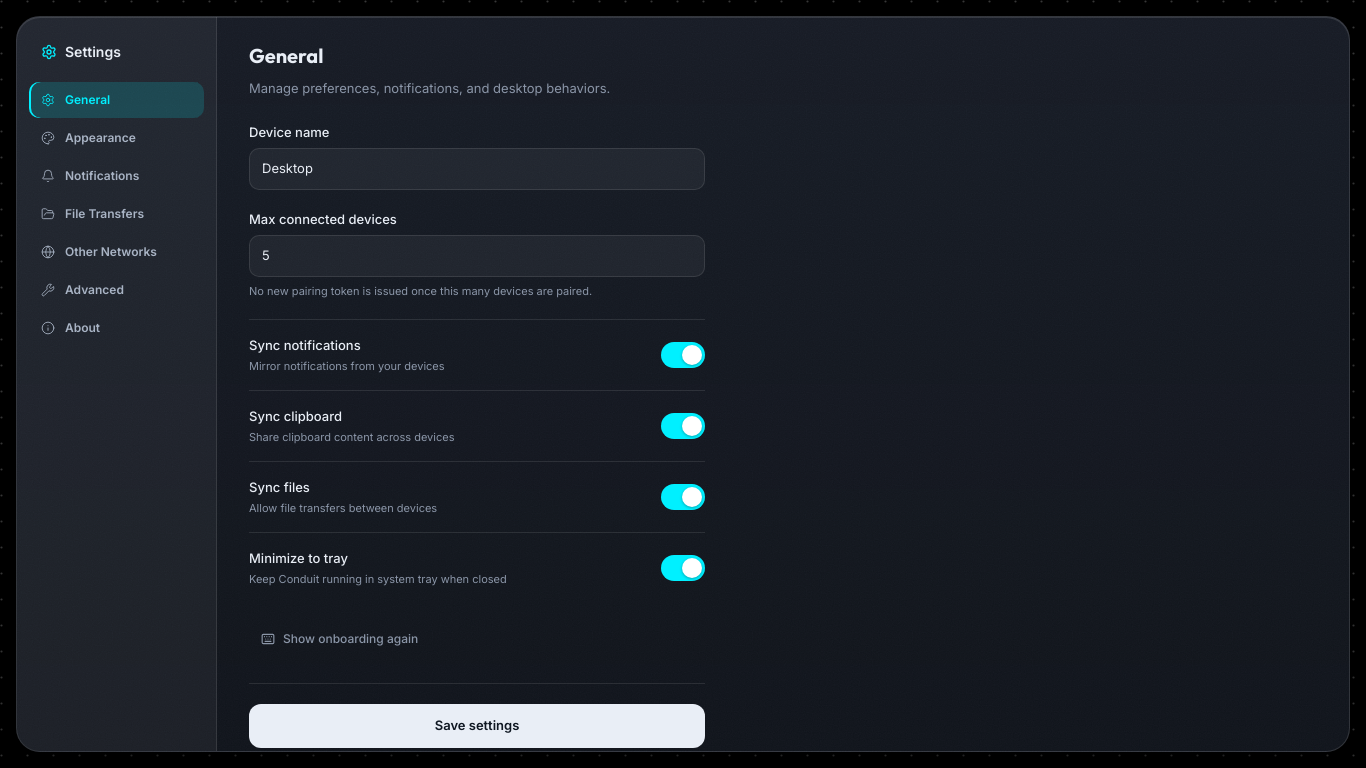
Test case: Settings › edits the notification_apps allowlist
Check: the text "Settings" is shown, box [65,41,121,62]
Click the button "Notifications" at x=116, y=176, box [29,158,204,194]
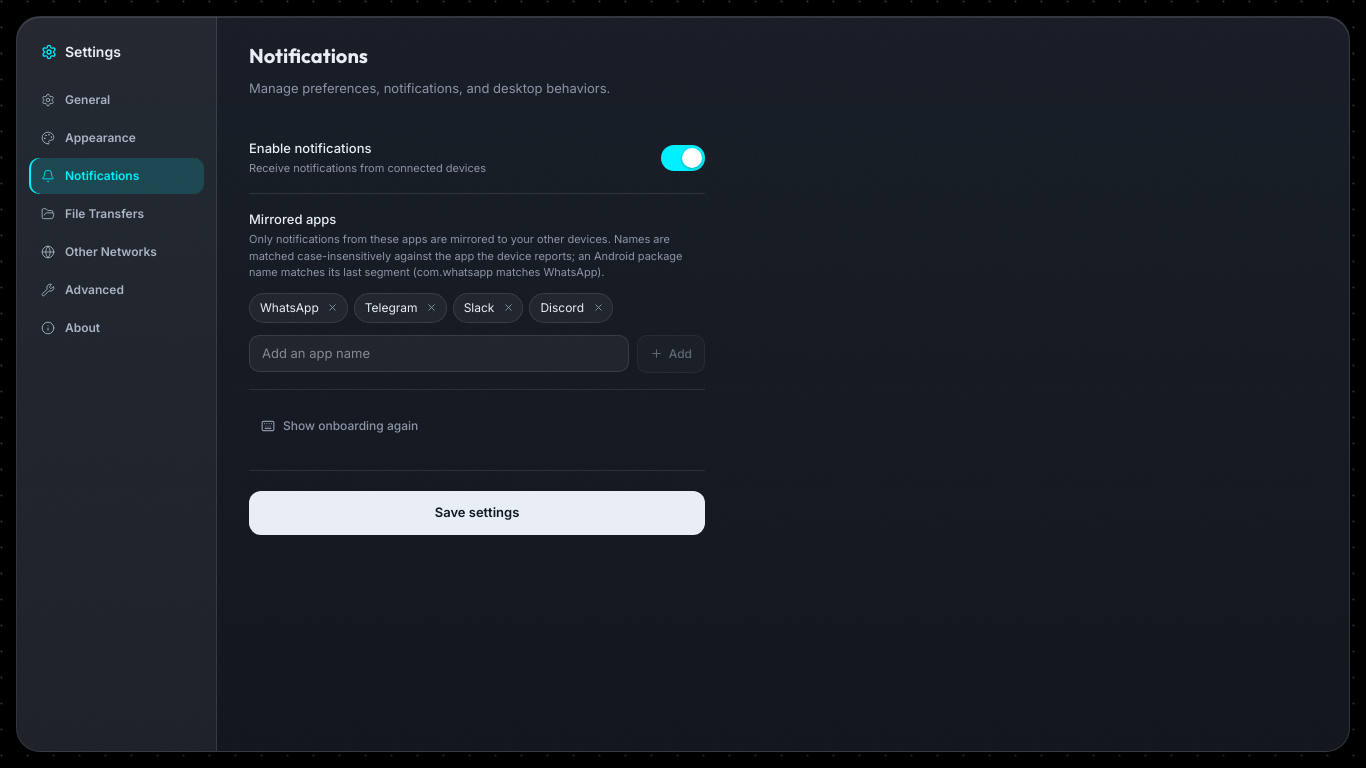
Check: the text "Slack" is shown, box [453,292,523,322]
Check: the text "WhatsApp" is shown, box [249,292,348,322]
Type "Matrix" into the field with placeholder "Add an app name" at x=439, y=354, box [249,335,629,372]
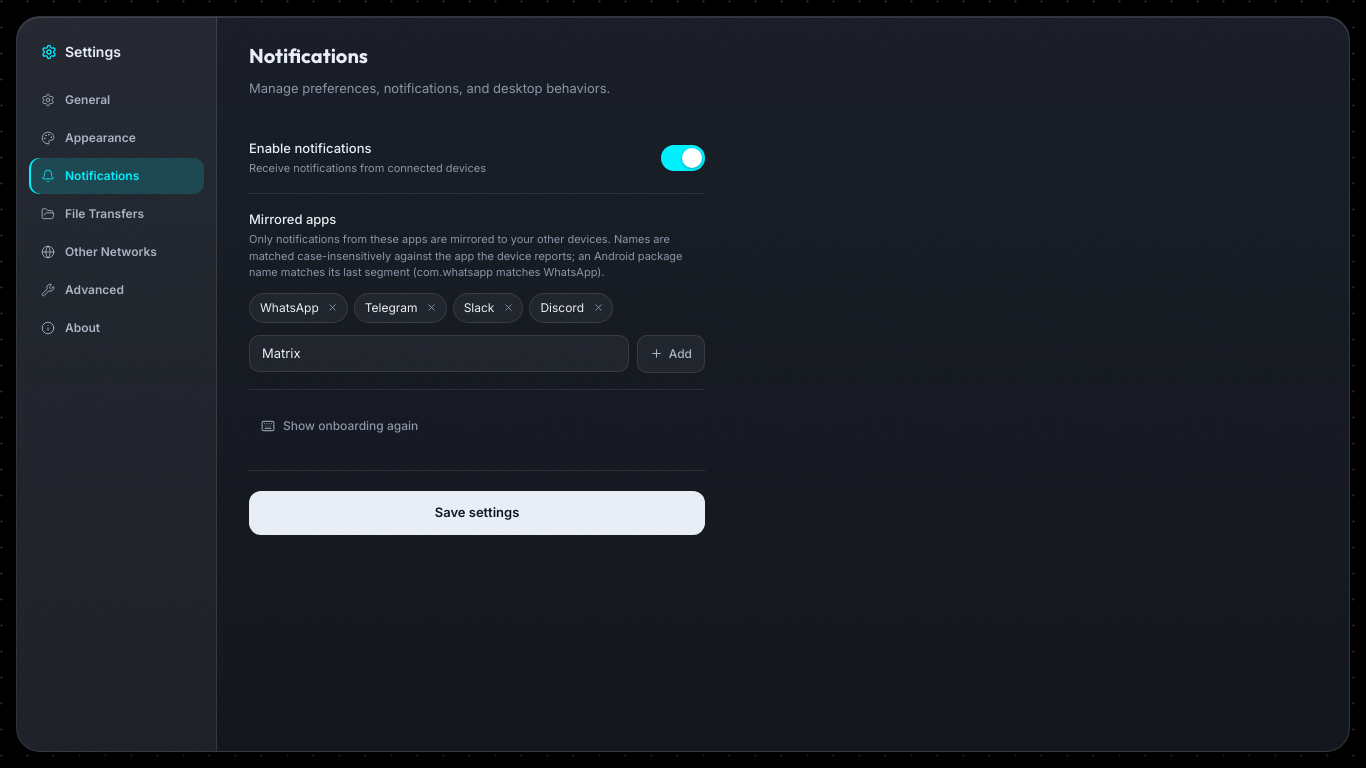
Click the button with aria-label "Add app" at x=671, y=354, box [637,334,705,372]
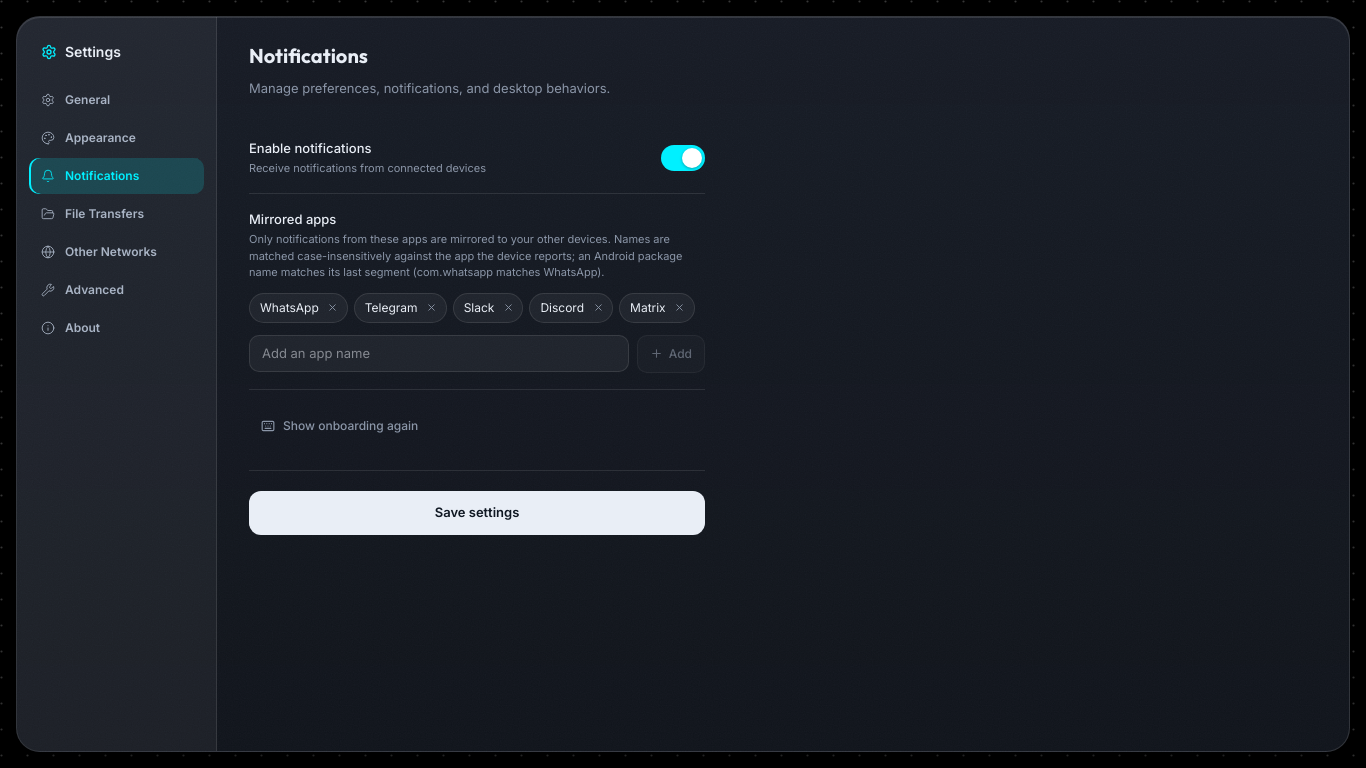
Check: the text "Matrix" is shown, box [619,292,695,322]
Click the button named "Remove Matrix" at x=680, y=308, box [670,298,690,318]
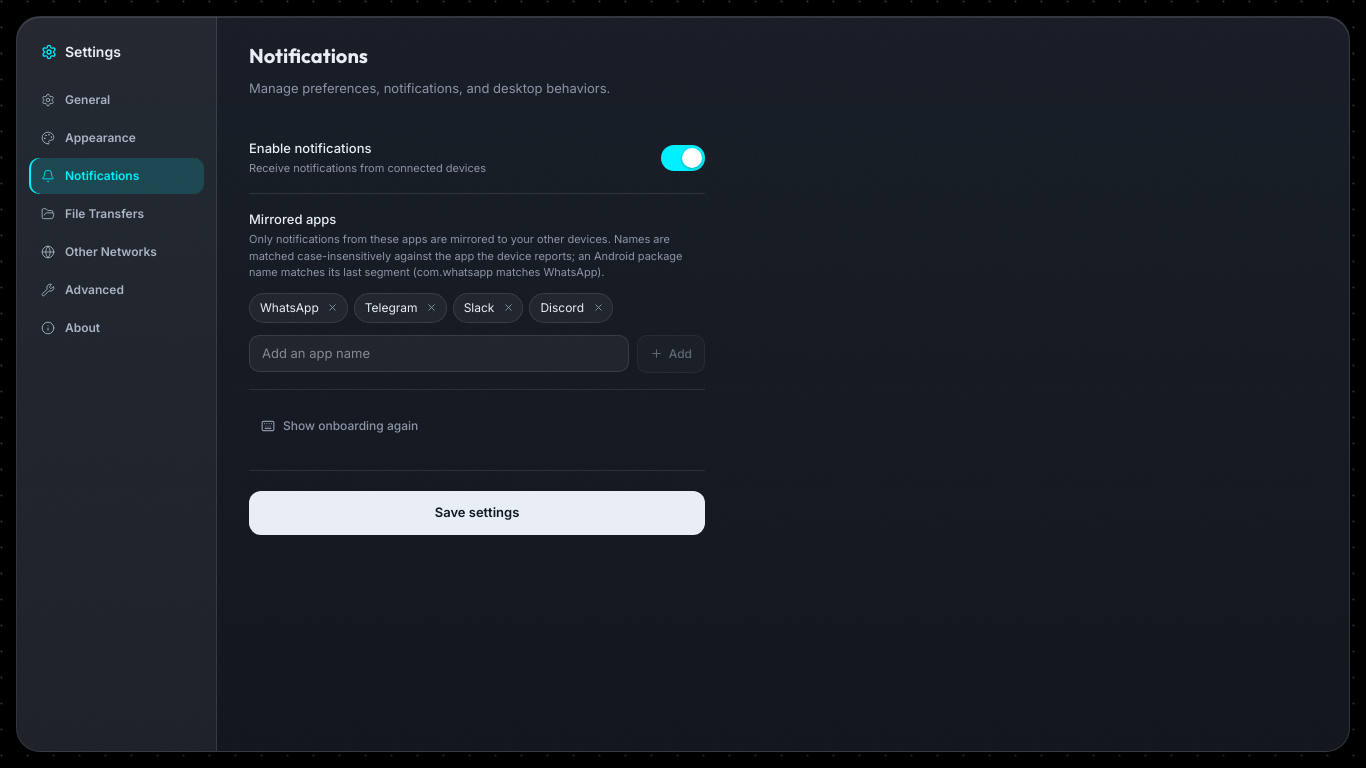
Check: the text "Matrix" is gone
